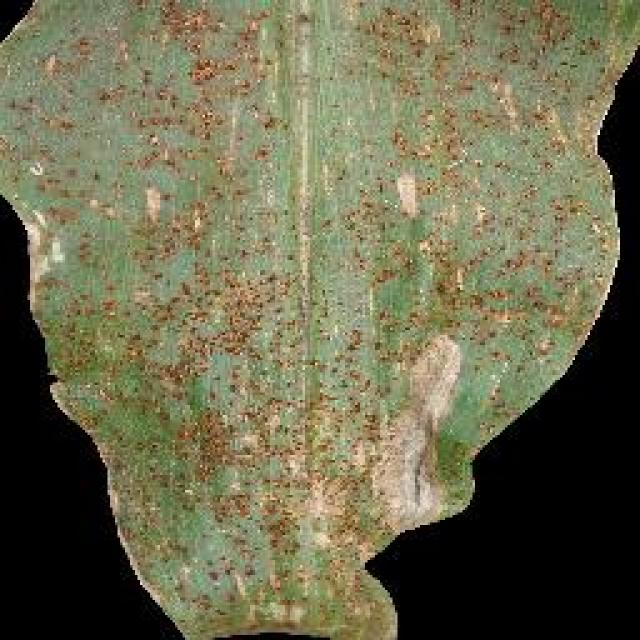Corn Common Rust: (61, 73, 442, 567)
